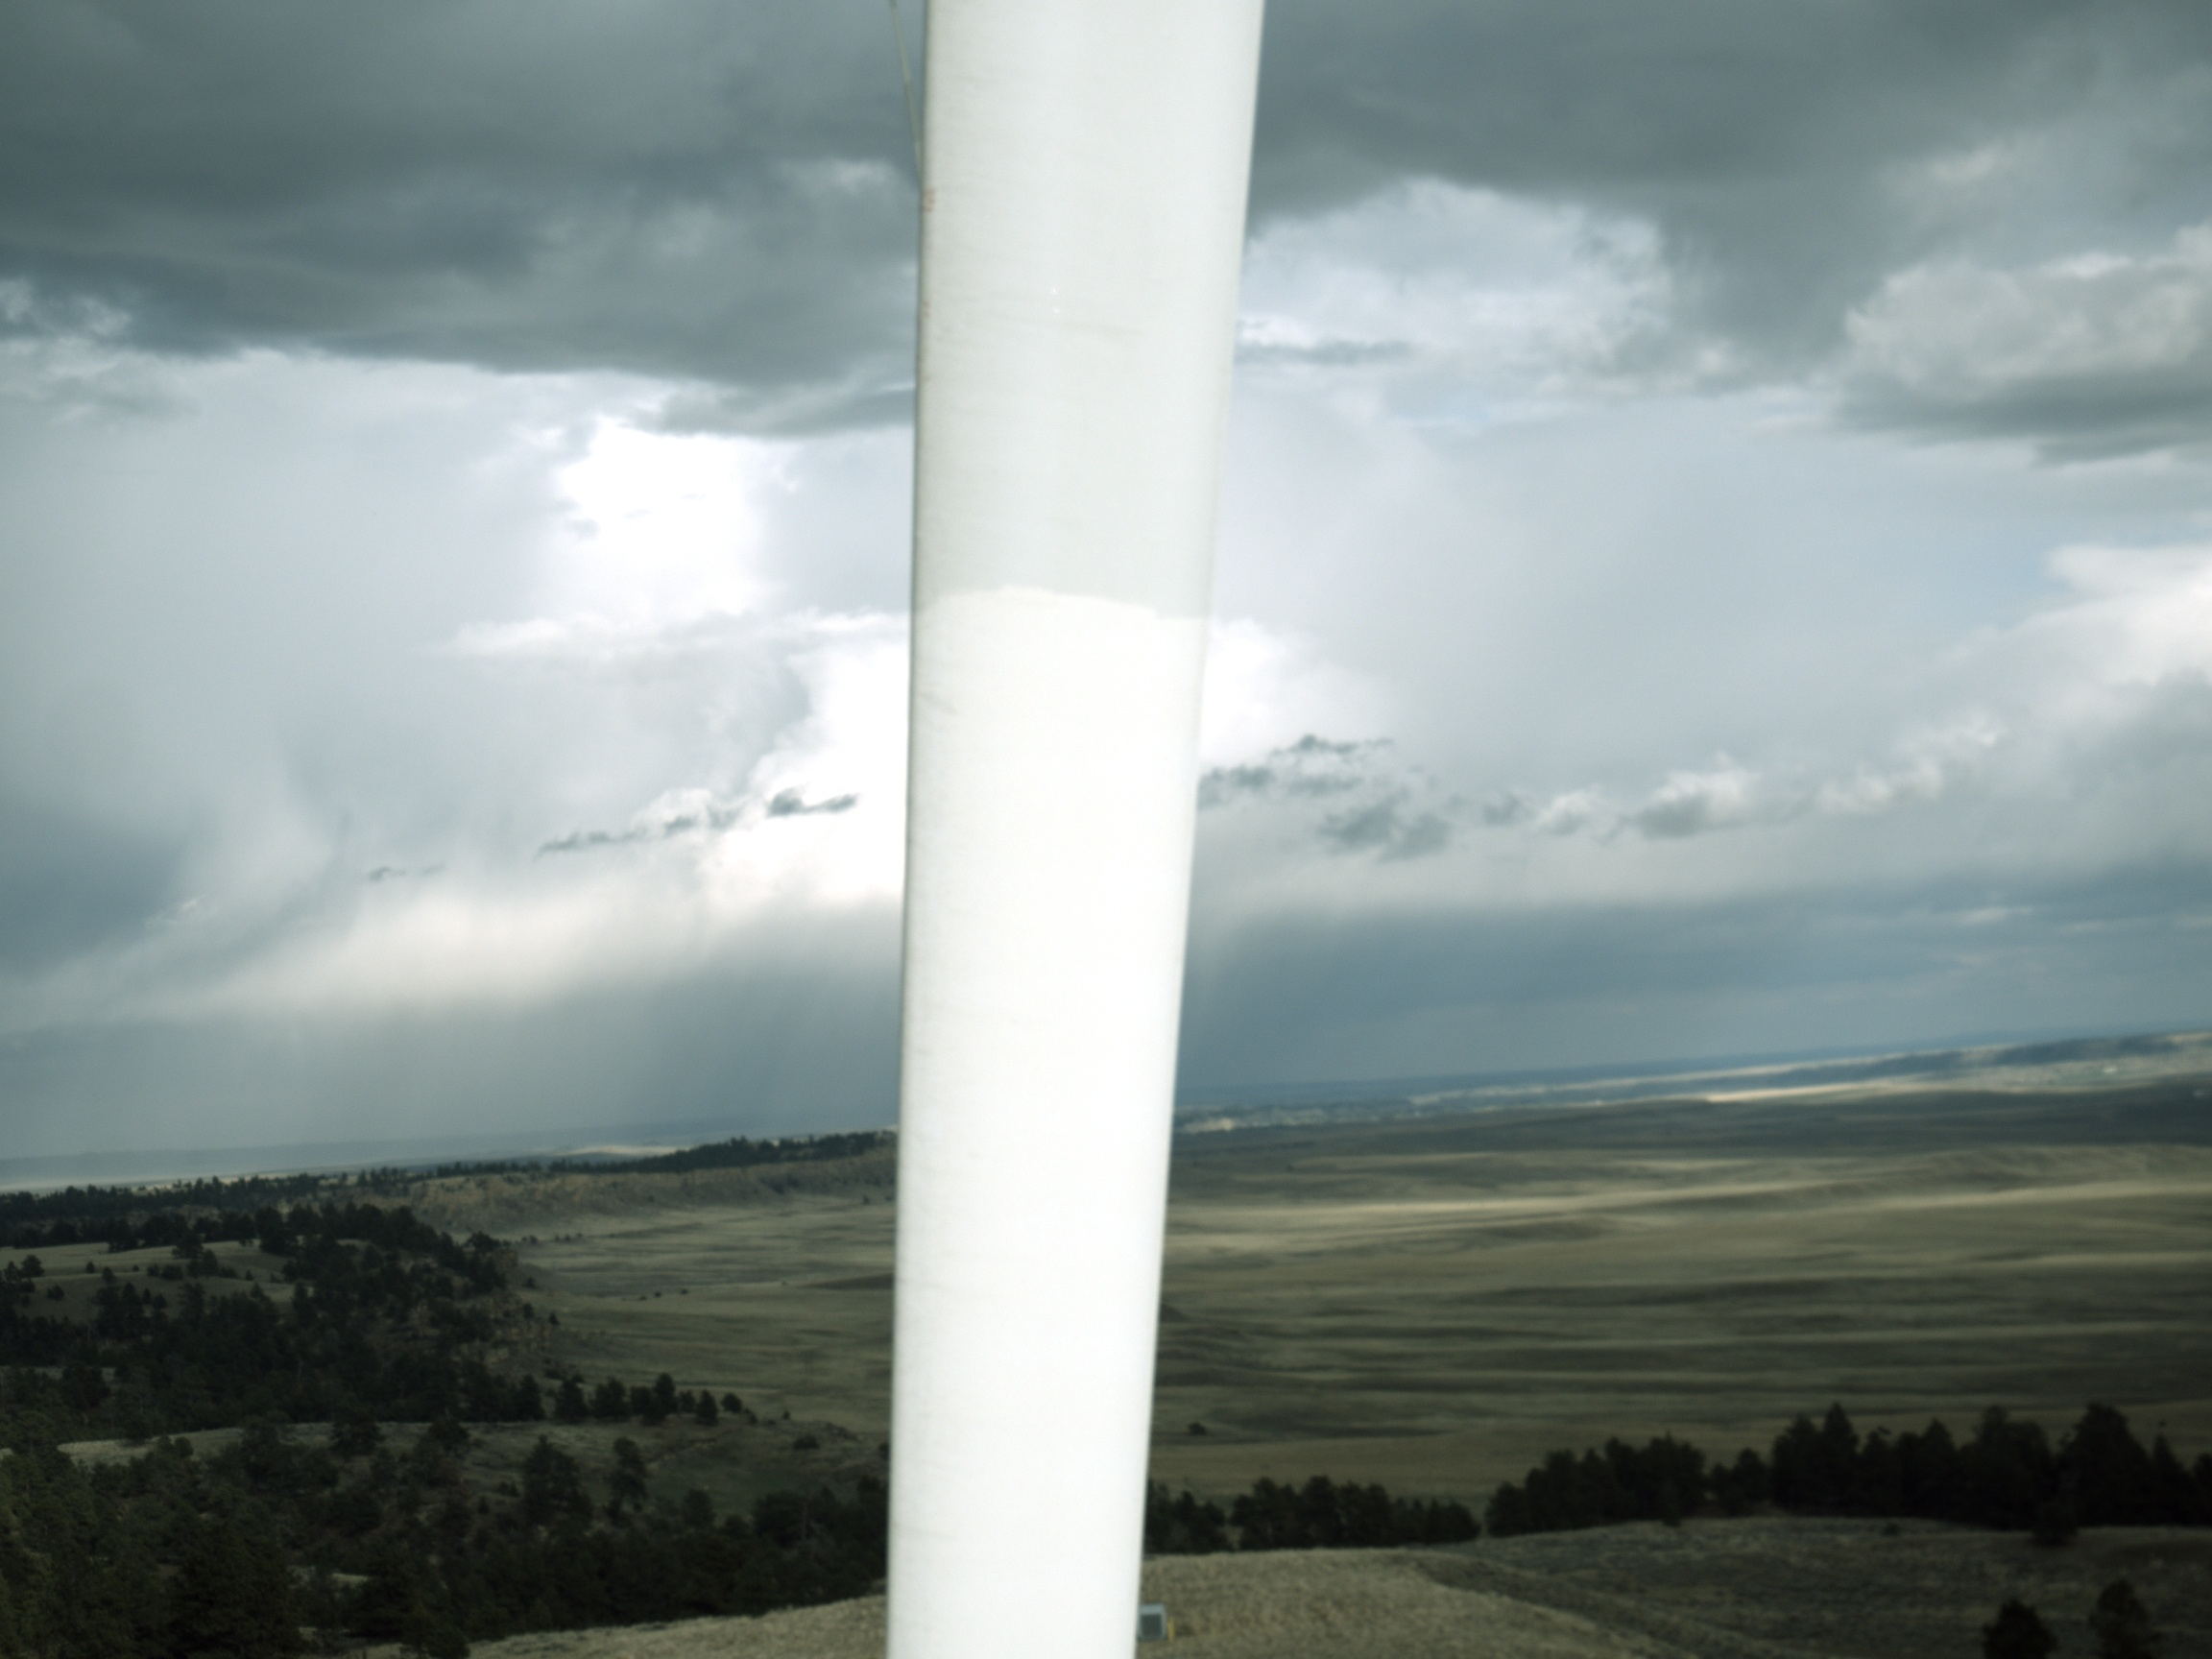chip: (920, 188, 935, 213), (918, 369, 932, 383), (920, 310, 930, 317), (921, 300, 930, 307)
